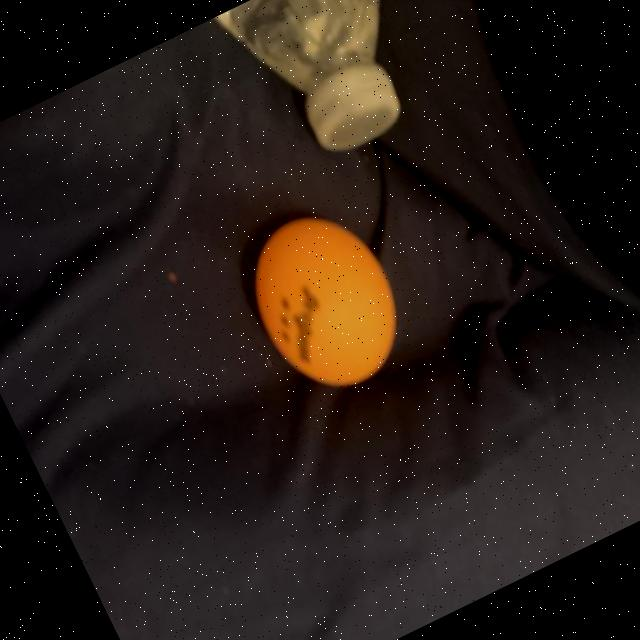ping-pong-ball: (214, 177, 436, 424)
